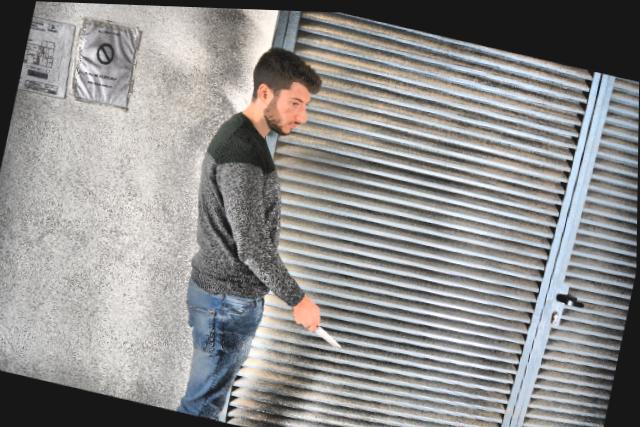knife: (295, 308, 352, 350)
